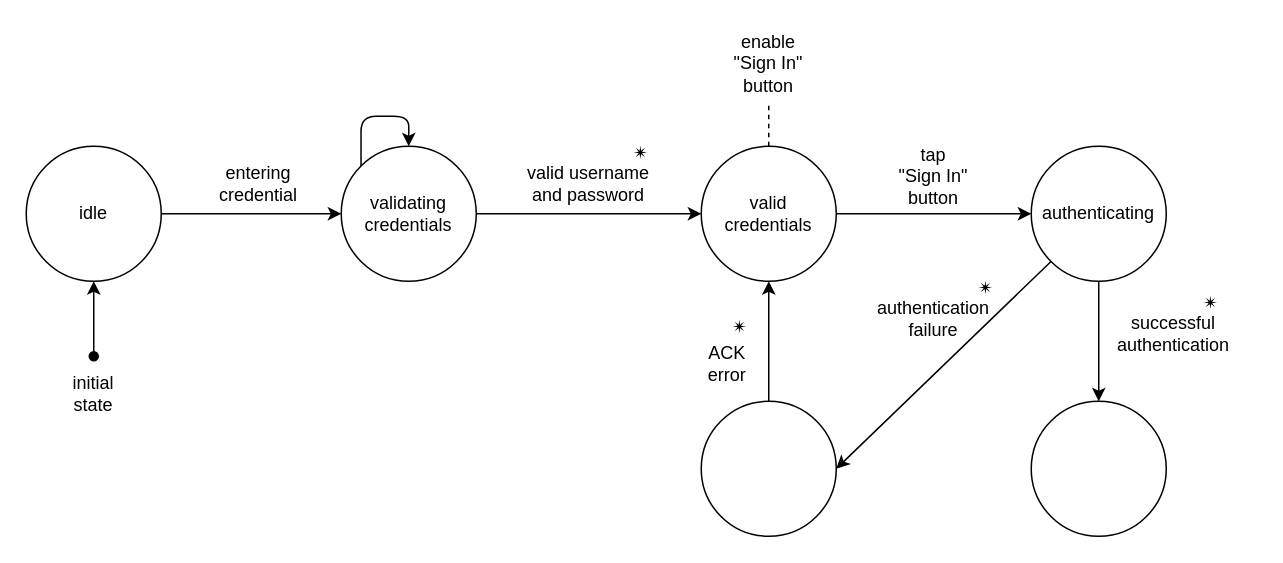
The diagram is 1283 pixels wide and 563 high, and some of its shapes have lost their labels. Here are the shapes that lost their labels. From the top down, the centre of each, then its label:
(768,468): error
(1098,468): authenticated
